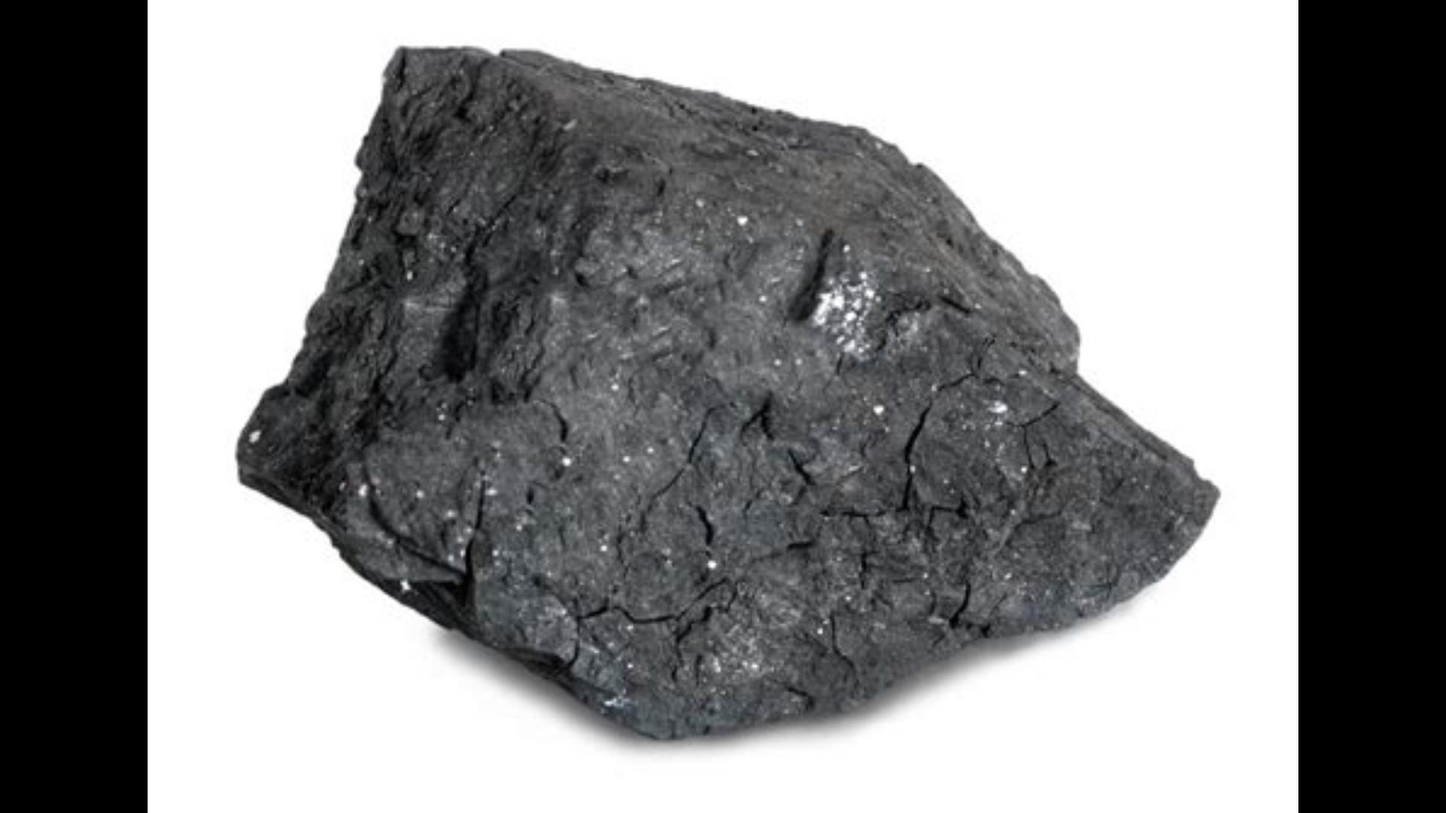rock: (237, 51, 1213, 735)
